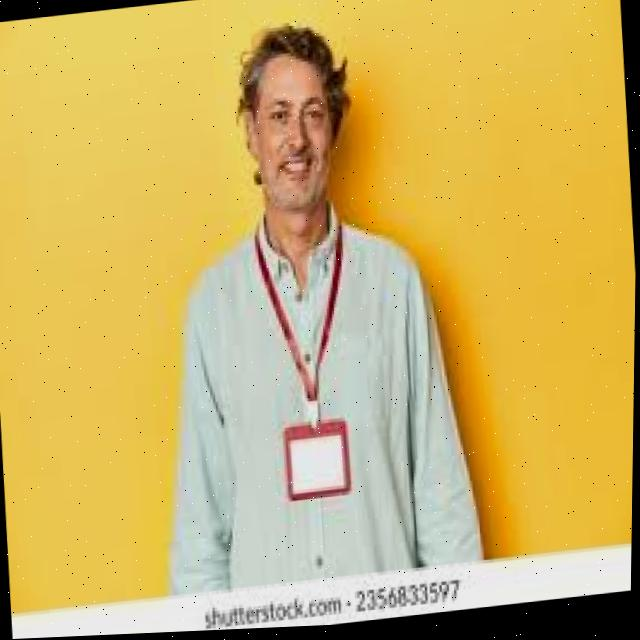id_card: (251, 225, 374, 519)
